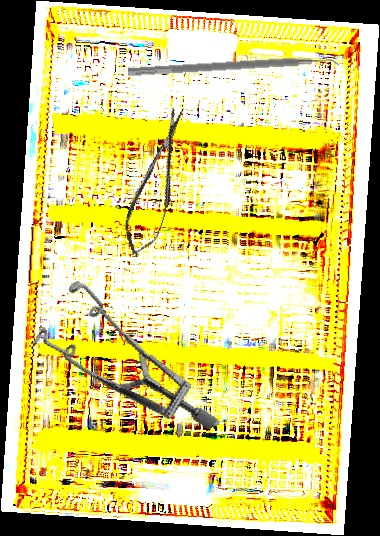Micro Scissor: (115, 102, 200, 262)
Spatula Surgical: (127, 52, 340, 86)
Speculum: (17, 251, 222, 477)
